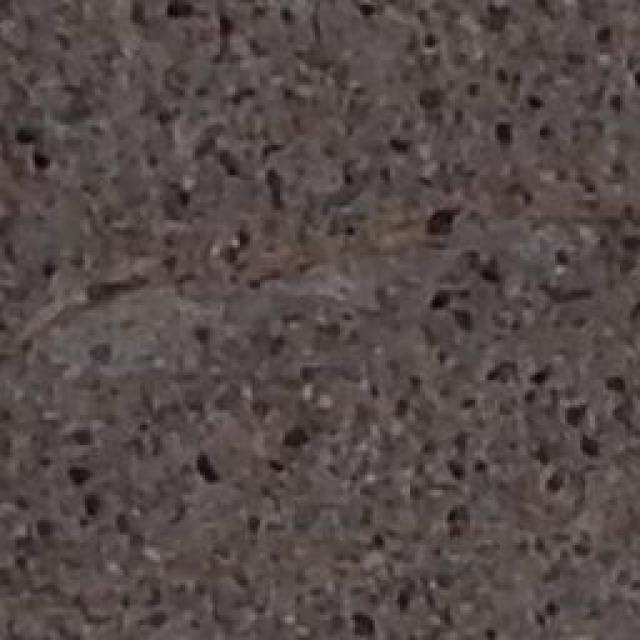concrete-crack: (1, 162, 640, 368)
